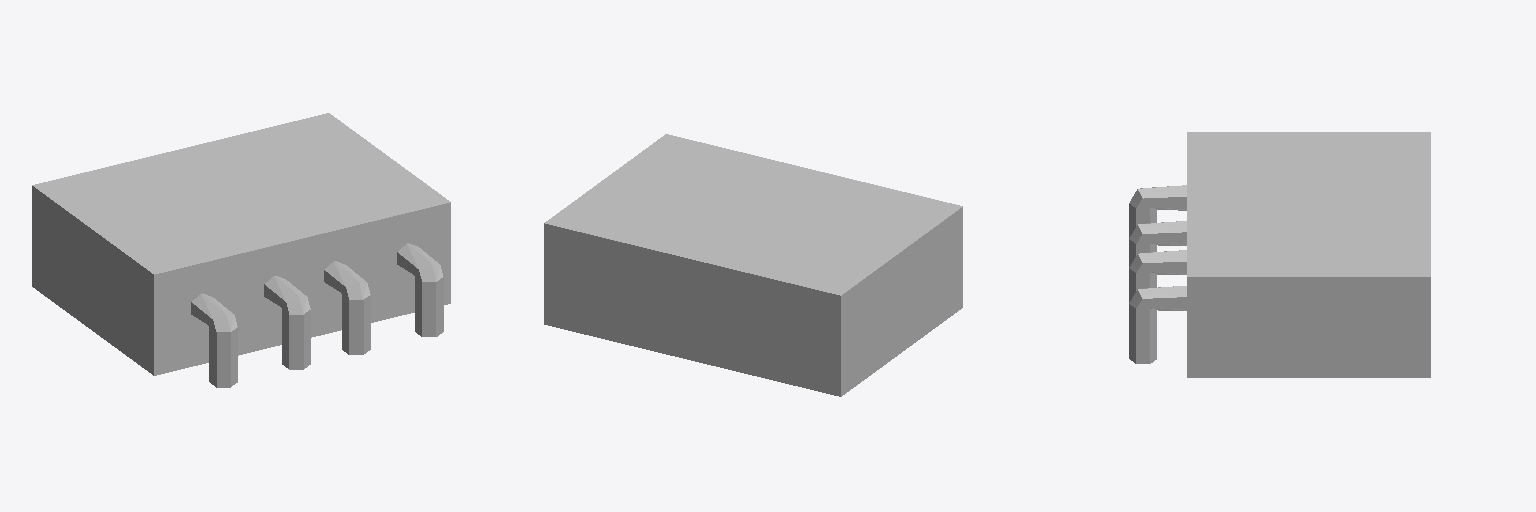
The model's file is Props_Roof_prop.obj.
The picture shows the model from 3 angles: view 1: azimuth 30°, elevation 25°; view 2: azimuth 150°, elevation 25°; view 3: azimuth 270°, elevation 25°; orthographic projection.
Parts seen in each view (by area): view 1: Props_Roof_prop; view 2: Props_Roof_prop; view 3: Props_Roof_prop.
Part boxes in pixels (x1,y1,x2,y2): Props_Roof_prop: (32, 113, 450, 387); Props_Roof_prop: (544, 134, 962, 396); Props_Roof_prop: (1129, 132, 1430, 377).
Bounding box in the file's own units: 121 × 40.17 × 106.